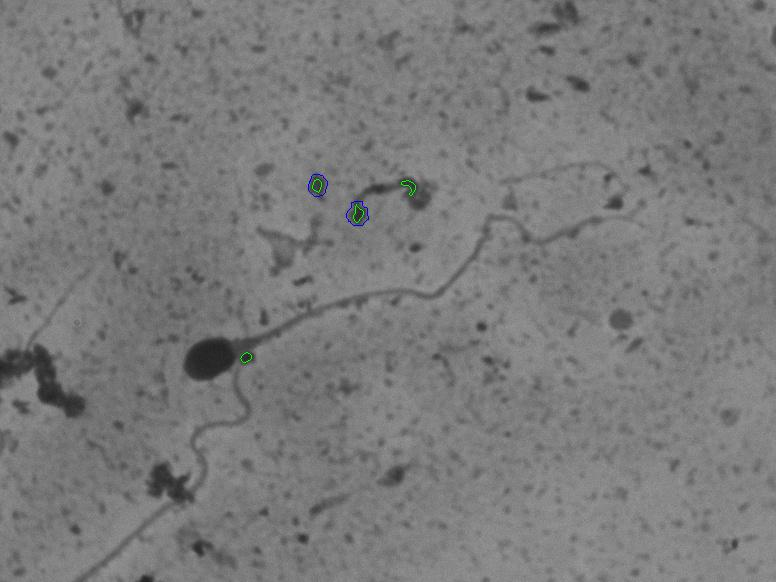Normal: (160, 206, 604, 396)
